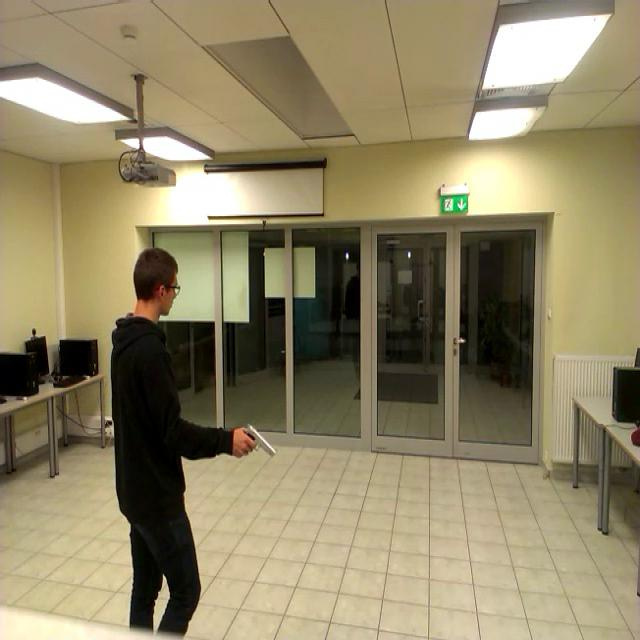handgun: (240, 421, 284, 464)
